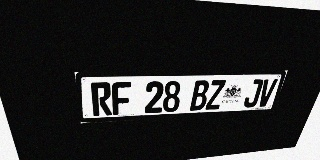2: (145, 81, 164, 113)
8: (162, 81, 182, 112)
B: (190, 80, 210, 111)
F: (112, 82, 131, 115)
J: (242, 79, 264, 108)
R: (90, 82, 112, 116)
V: (256, 79, 278, 107)
Z: (205, 80, 226, 110)
